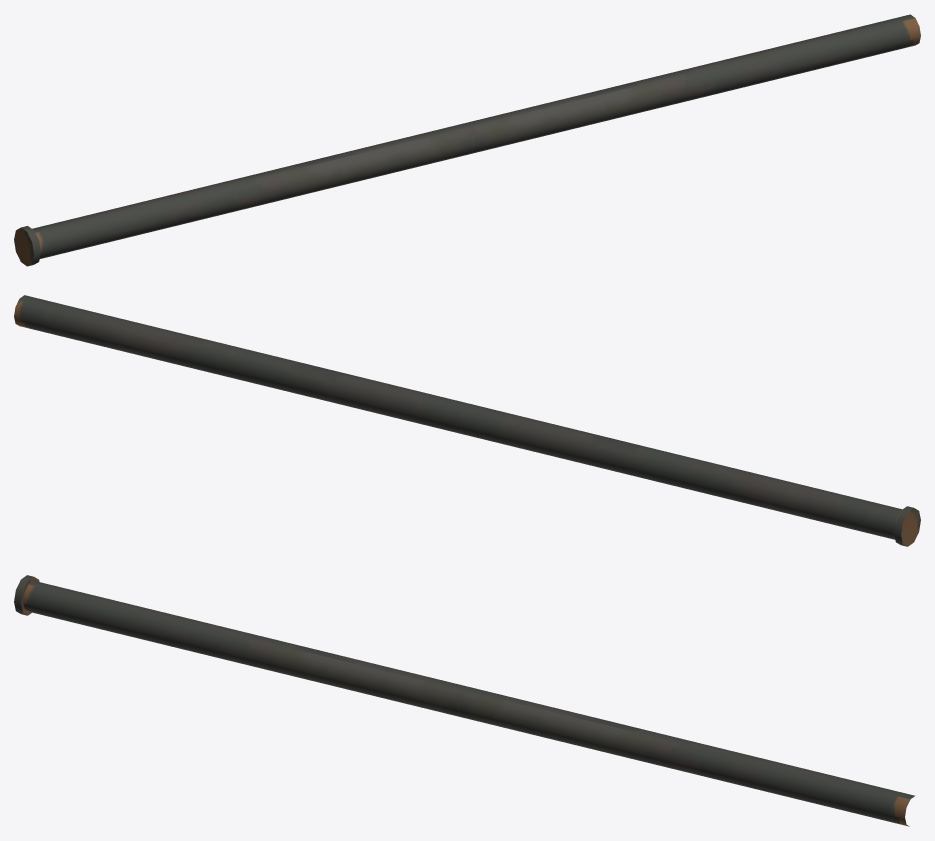
The picture shows the model from 3 angles, top to bottom: view 1: azimuth 30°, elevation 25°; view 2: azimuth 150°, elevation 25°; view 3: azimuth 330°, elevation 25°; orthographic projection.
Visible parts, largest first — view 1: body0_model0_lod0_mesh0; view 2: body0_model0_lod0_mesh0; view 3: body0_model0_lod0_mesh0.
Boxes of the visible parts, bbox=[...] form: body0_model0_lod0_mesh0: bbox=[14, 14, 920, 266]; body0_model0_lod0_mesh0: bbox=[14, 295, 920, 546]; body0_model0_lod0_mesh0: bbox=[14, 575, 914, 826].
Bounding box in the file's own units: 256 × 9.5 × 10.
Materials: 1 (1 with a texture image).
